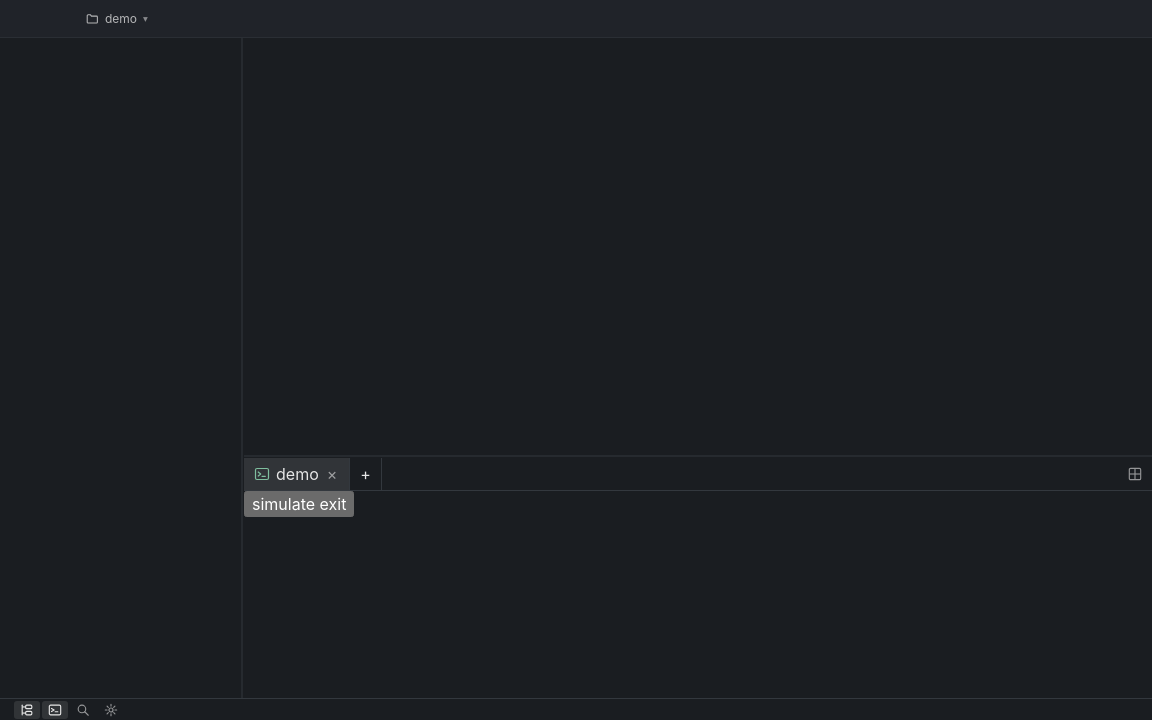
Test: App terminal auto-spawn — deliberate exit › a session exiting just under the crash-exit window still suppresses auto-spawn
Click the button with class "terminal-pane-stub-exit" at {"x": 299, "y": 504}, box [244,491,354,517]
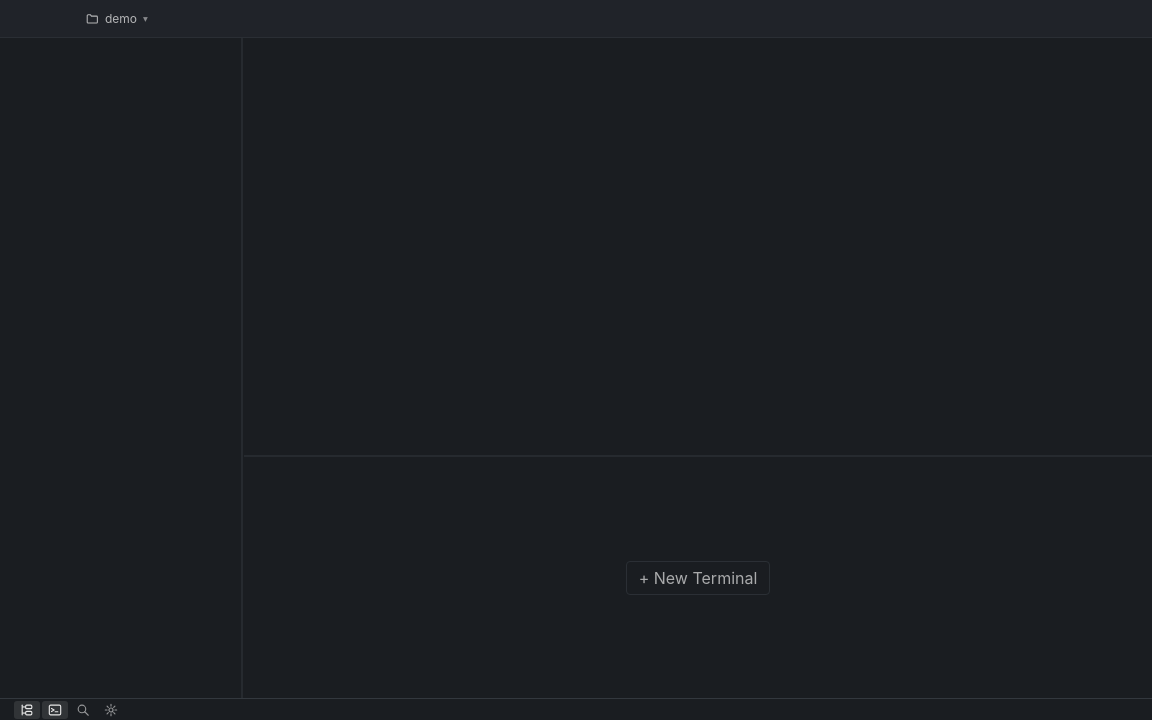
Expected: the element with class "terminal-empty" is shown, [626,561,770,595]
Expected: no elements with class "terminal-pane-stub" are shown
